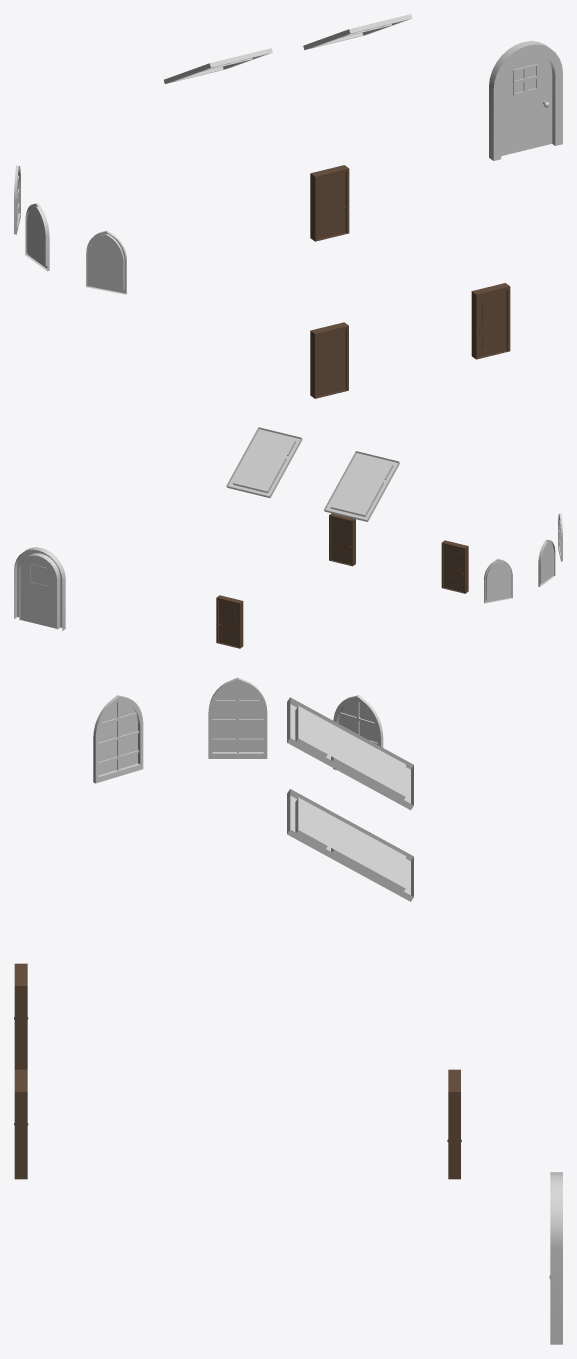
File: Windows_Doors.fbx
3 views of the same model, one above another, from view 1: azimuth 30°, elevation 25°; view 2: azimuth 150°, elevation 25°; view 3: azimuth 270°, elevation 25° (orthographic). The views are drawn at different scales.
Visible parts, largest first — view 1: Cube.035, Cube.036, Cube.003, Cube.001, Cube.077, Cube.075, Cube.039, Cube.007, Cube.038, Cube.074, Cube.076, Cube.037; view 2: Cube.001, Cube.035, Cube.036, Cube.005, Cube.075, Cube.039, Cube.077, Cube.007, Cube.038, Cube.076, Cube.074; view 3: Cube.001, Cube.007, Cube.003, Cube.036, Cube.074, Cube.005, Cube.076, Cube.038.
Part boxes in pixels (x1,y1,x2,y2): Cube.035: [501, 52, 552, 155]; Cube.036: [489, 41, 562, 160]; Cube.003: [86, 230, 126, 294]; Cube.001: [164, 14, 412, 83]; Cube.077: [317, 329, 345, 396]; Cube.075: [478, 290, 506, 356]; Cube.039: [317, 172, 345, 239]; Cube.007: [25, 203, 49, 271]; Cube.038: [310, 165, 349, 241]; Cube.074: [471, 283, 510, 359]; Cube.076: [310, 322, 348, 398]; Cube.037: [513, 64, 537, 95]; Cube.001: [226, 427, 399, 521]; Cube.035: [20, 555, 56, 628]; Cube.036: [14, 547, 65, 630]; Cube.005: [484, 559, 512, 603]; Cube.075: [331, 517, 350, 564]; Cube.039: [218, 600, 238, 646]; Cube.077: [444, 545, 463, 592]; Cube.007: [538, 539, 555, 586]; Cube.038: [216, 595, 243, 648]; Cube.076: [441, 540, 468, 593]; Cube.074: [329, 513, 355, 566]; Cube.001: [287, 697, 413, 901]; Cube.007: [208, 677, 267, 758]; Cube.003: [93, 695, 143, 783]; Cube.036: [550, 1172, 562, 1344]; Cube.074: [14, 1069, 27, 1179]; Cube.005: [333, 695, 383, 769]; Cube.076: [14, 963, 27, 1069]; Cube.038: [448, 1069, 460, 1179].
Size of the model in its own units: 2074 by 806 by 1140.
